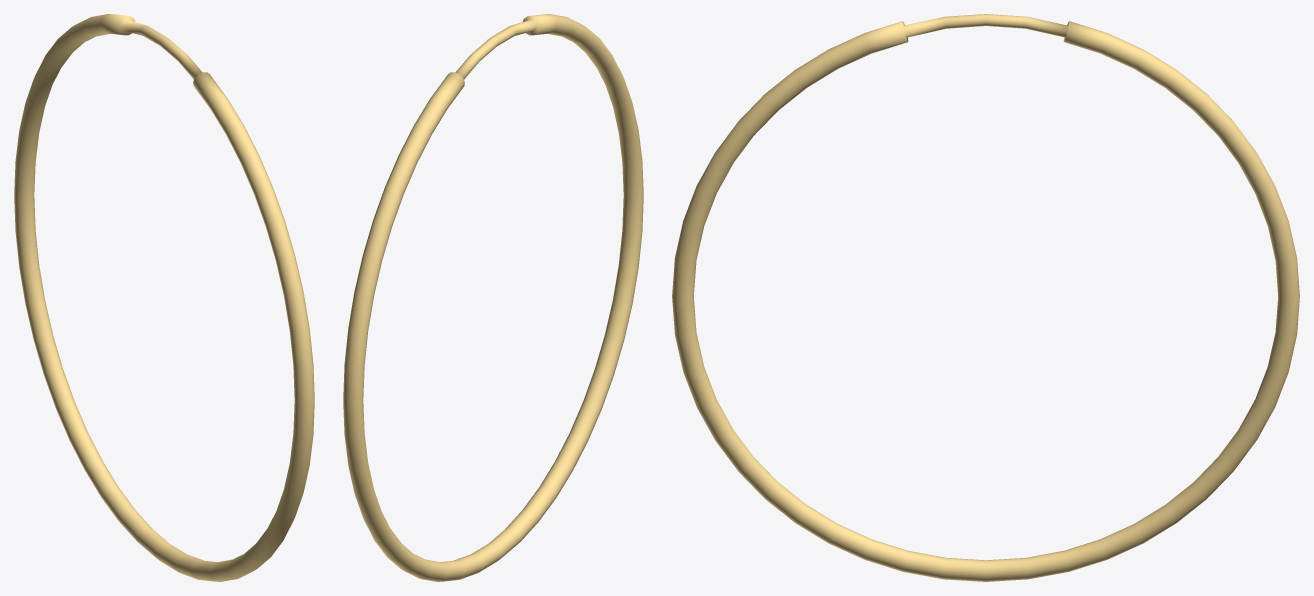
The model's file is outfit_earring.glb.
3 renders of one model, left to right at view 1: azimuth 30°, elevation 25°; view 2: azimuth 150°, elevation 25°; view 3: azimuth 270°, elevation 25°, orthographic. The views are drawn at different scales.
Visible parts, largest first — view 1: outfit_earring; view 2: outfit_earring; view 3: outfit_earring.
Part boxes in pixels (x1,y1,x2,y2): outfit_earring: [14, 14, 314, 581]; outfit_earring: [343, 14, 643, 581]; outfit_earring: [672, 14, 1299, 581].
Bounding box in the file's own units: 0.0105 × 0.3 × 0.3014.
Materials: 1 (1 with a texture image).
